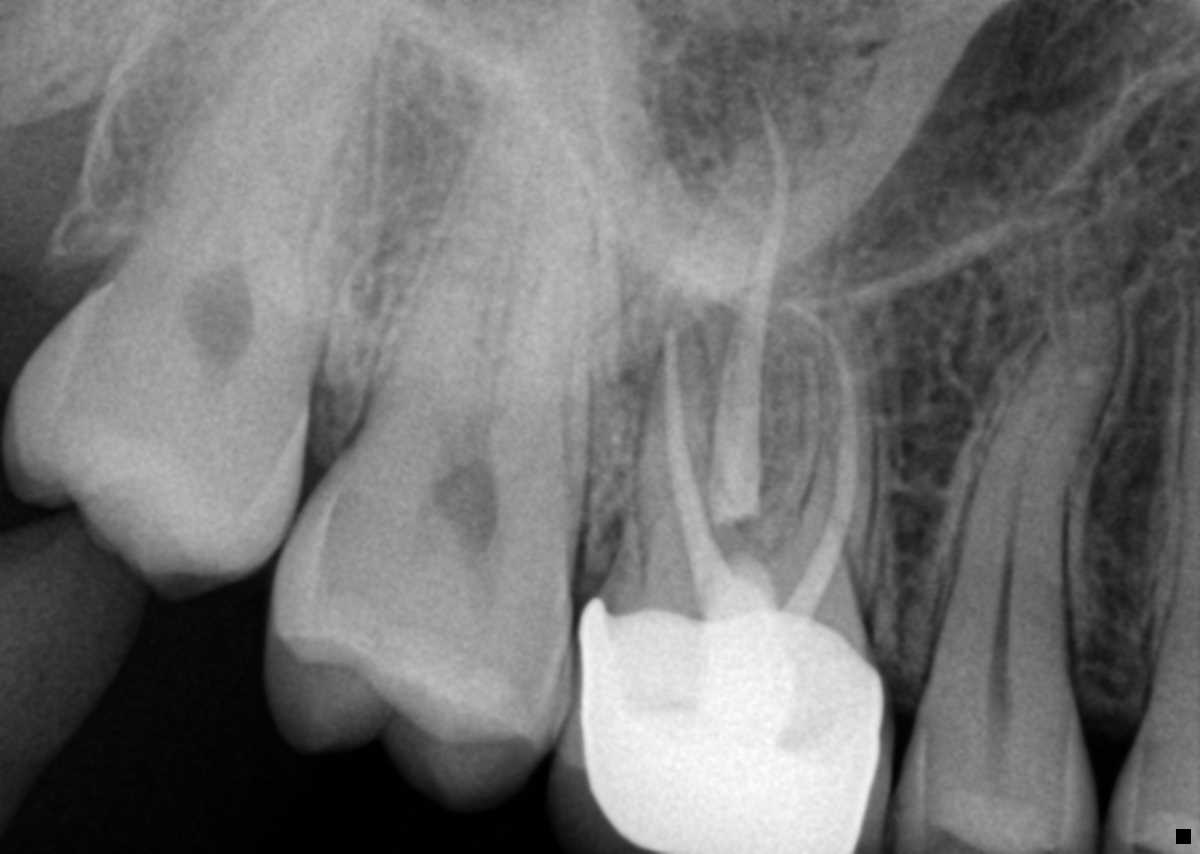Distal Root: (355, 168, 512, 449), (618, 304, 754, 571)
Main Canal: (986, 267, 1089, 701)
Main Root: (923, 197, 1123, 710), (129, 0, 388, 391), (1144, 257, 1200, 689)
Mesial Root: (482, 147, 592, 511), (775, 291, 875, 588)
Palatal Root: (357, 11, 596, 484), (623, 78, 825, 615)
Root Canal Filling: (707, 87, 787, 518), (665, 326, 733, 608)
